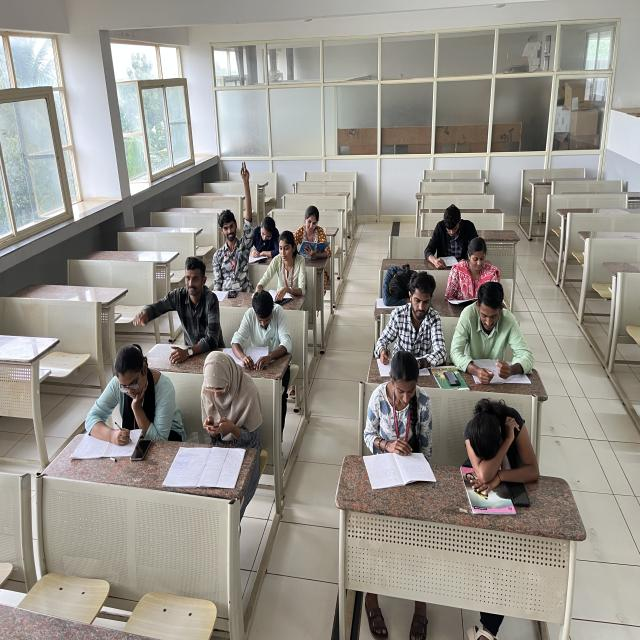Hand Rising: (210, 161, 260, 285)
Reading: (356, 355, 432, 482), (445, 240, 506, 311), (234, 292, 293, 365), (421, 205, 479, 272), (295, 204, 337, 260)
Sleeping: (454, 393, 543, 491), (378, 256, 422, 304)
Using Phone: (196, 346, 264, 435)
Writing: (78, 344, 172, 451), (454, 282, 536, 379), (249, 216, 282, 263)
